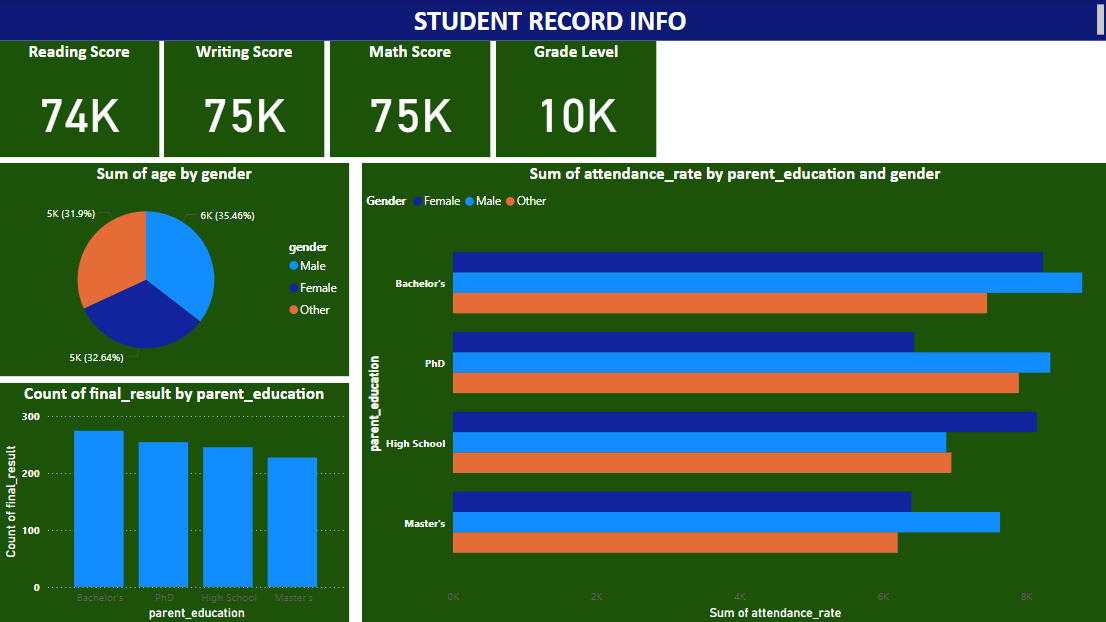

What the dashboard file says about the page in this screenshot:
{"tool":"powerbi","page":{"name":"Page 1","canvas":[1280,720],"ordinal":0},"visuals":[{"type":"card","title":"Reading Score","fields":{"Values":["Sum(vw_student_record_info.reading_score)"]},"box":[0,47.5,185,134.2],"z":0},{"type":"textbox","box":[0,0,1280,47.5],"z":1000},{"type":"card","title":"Writing Score","fields":{"Values":["Sum(vw_student_record_info.writing_score)"]},"box":[189.9,47.5,185,134.2],"z":2000},{"type":"card","title":"Math Score","fields":{"Values":["Sum(vw_student_record_info.math_score)"]},"box":[381.4,47.5,185,134.2],"z":3000},{"type":"card","title":"Grade Level","fields":{"Values":["Sum(vw_student_record_info.grade_level)"]},"box":[572.9,47.5,185,134.2],"z":4000},{"type":"columnChart","fields":{"Category":["vw_student_record_info.parent_education"],"Y":["CountNonNull(vw_student_record_info.final_result)"]},"box":[0,441.9,404.3,278.3],"z":5000},{"type":"pieChart","fields":{"Category":["vw_student_record_info.gender"],"Y":["Sum(vw_student_record_info.age)"]},"box":[0,188.2,404.3,245.5],"z":6000},{"type":"clusteredBarChart","fields":{"Category":["vw_student_record_info.parent_education"],"Y":["Sum(vw_student_record_info.attendance_rate)"],"Series":["vw_student_record_info.gender"]},"box":[419,188.2,861,532],"z":7000}]}

Visuals, with their boxes in screenshot pixels (x1, y1, x2, y2), scaled from the page's 1280x720 canvas onto the 1106x622 screenshot:
"Reading Score" card: bbox(0, 41, 160, 157)
textbox: bbox(0, 0, 1105, 41)
"Writing Score" card: bbox(164, 41, 324, 157)
"Math Score" card: bbox(330, 41, 489, 157)
"Grade Level" card: bbox(495, 41, 655, 157)
columnChart - vw_student_record_info.parent_education x CountNonNull(vw_student_record_info.final_result): bbox(0, 382, 349, 621)
pieChart - vw_student_record_info.gender x Sum(vw_student_record_info.age): bbox(0, 163, 349, 375)
clusteredBarChart - vw_student_record_info.parent_education x Sum(vw_student_record_info.attendance_rate): bbox(362, 163, 1105, 621)
